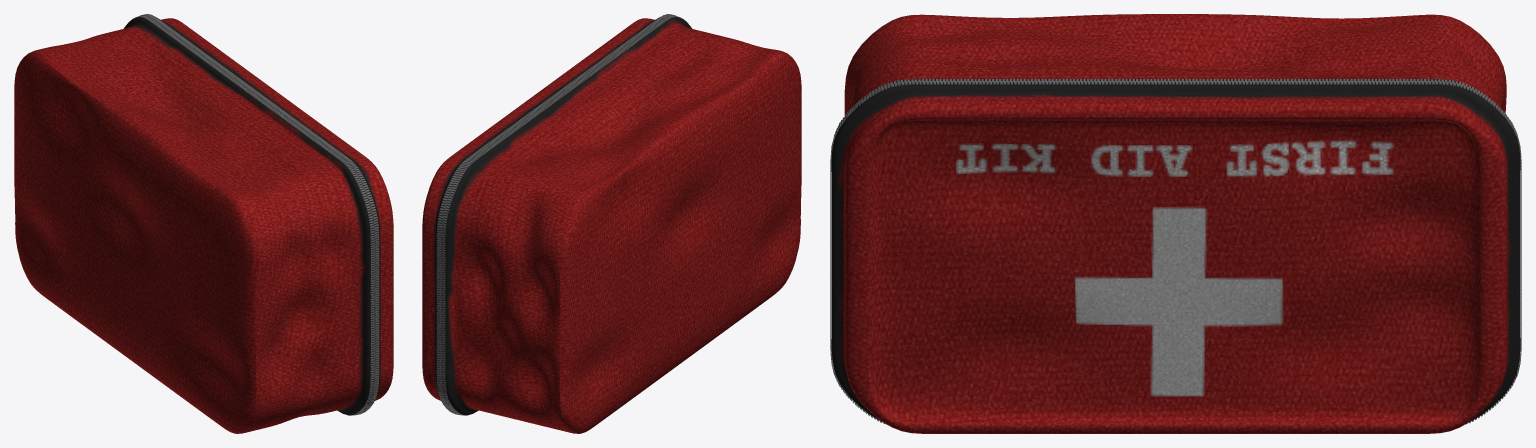
File: MedKit.fbx
3 views of the same model, side by side, from view 1: azimuth 30°, elevation 25°; view 2: azimuth 150°, elevation 25°; view 3: azimuth 270°, elevation 25° (orthographic). The views are drawn at different scales.
Parts seen in each view (by area): view 1: Cube, Cube.001; view 2: Cube, Cube.001; view 3: Cube, Cube.001.
Part boxes in pixels (bbox=[...]): Cube: bbox=[14, 16, 393, 433]; Cube.001: bbox=[128, 14, 379, 415]; Cube: bbox=[422, 17, 801, 433]; Cube.001: bbox=[436, 14, 686, 415]; Cube: bbox=[831, 14, 1520, 433]; Cube.001: bbox=[830, 79, 1521, 424].
Bounding box in the file's own units: 73.51 × 115 × 209.
